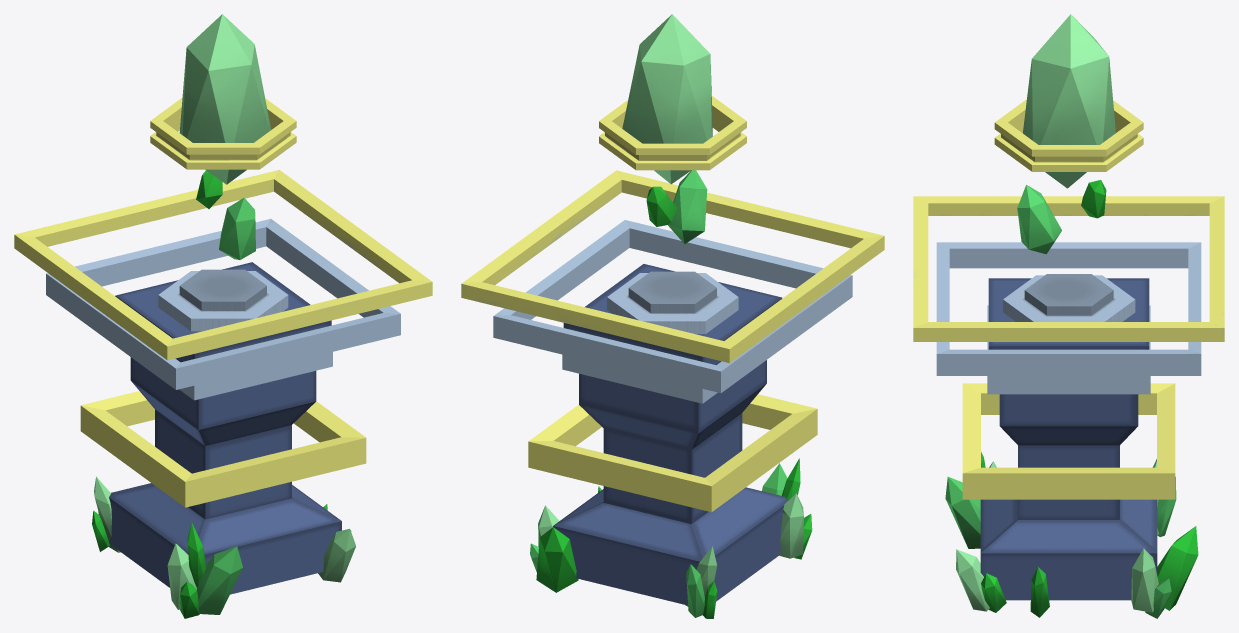
The model's file is Tour arcane3.fbx.
The picture shows the model from 3 angles, left to right: view 1: azimuth 30°, elevation 25°; view 2: azimuth 150°, elevation 25°; view 3: azimuth 270°, elevation 25°; orthographic projection.
Visible parts, largest first — view 1: Tour 3; view 2: Tour 3; view 3: Tour 3.
Part boxes in pixels (x1,y1,x2,y2): Tour 3: [14, 14, 432, 618]; Tour 3: [461, 14, 884, 618]; Tour 3: [913, 14, 1224, 618].
Bounding box in the file's own units: 5.48 × 10.95 × 5.48.
